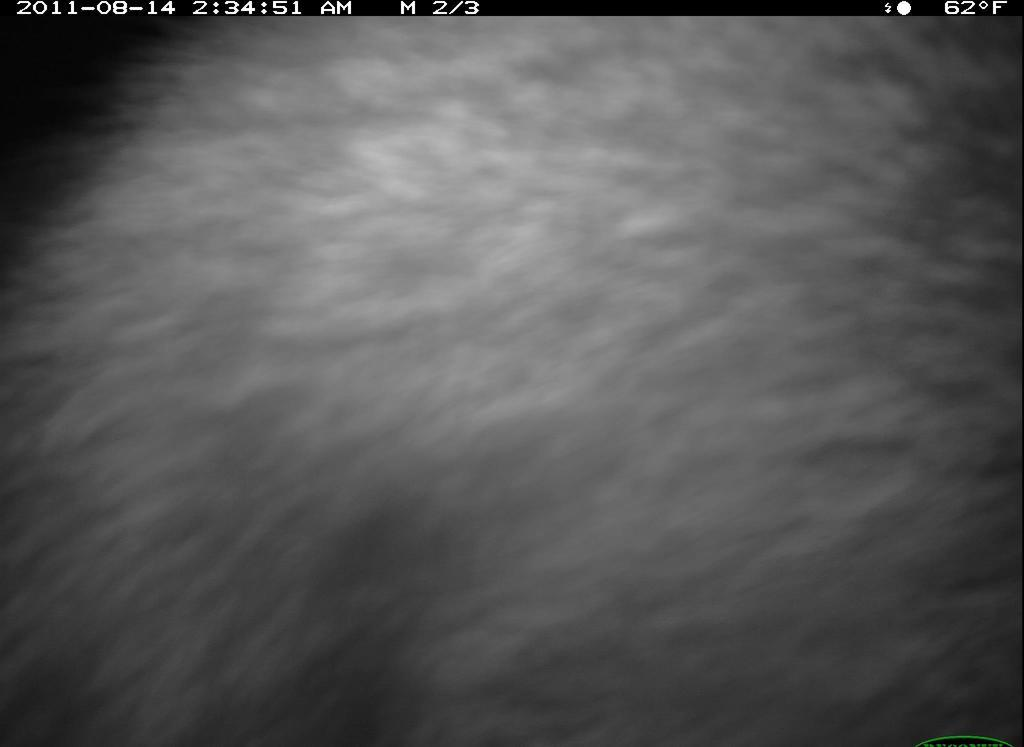raccoon: (65, 18, 1017, 747)
